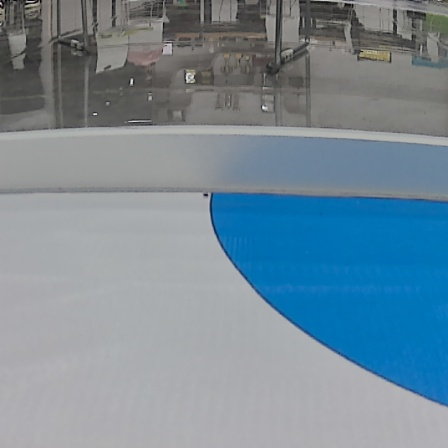blue_base: (207, 188, 448, 410)
